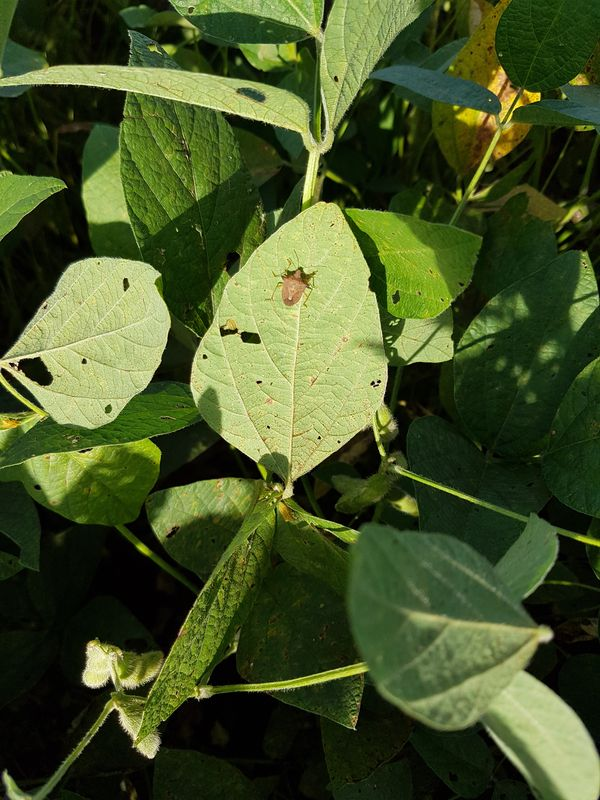Euschistus_heros_adulto: (264, 254, 322, 314)
